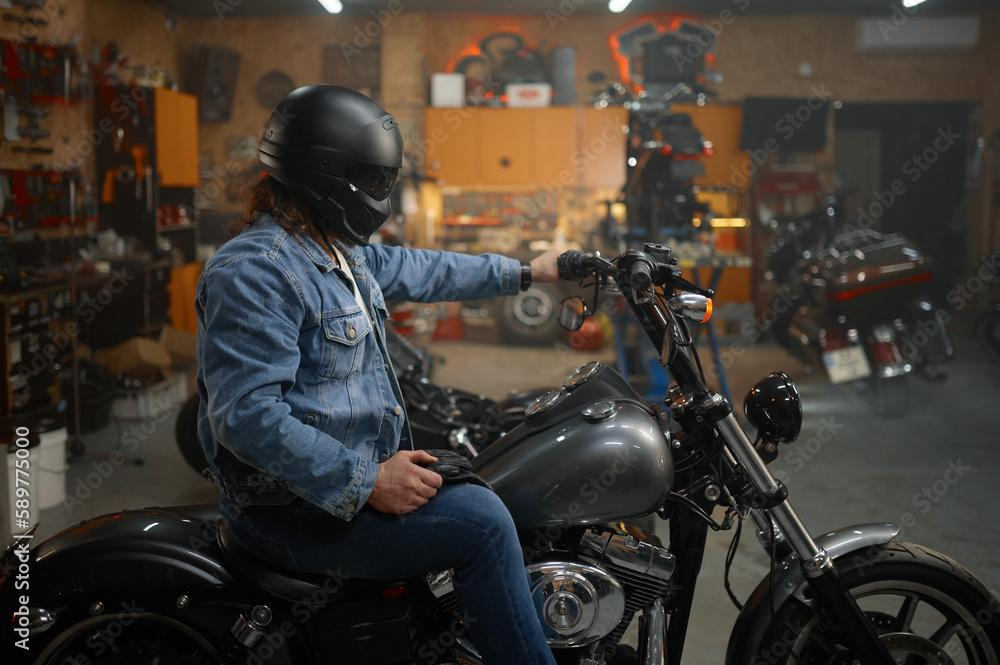helmet: (257, 83, 405, 248)
